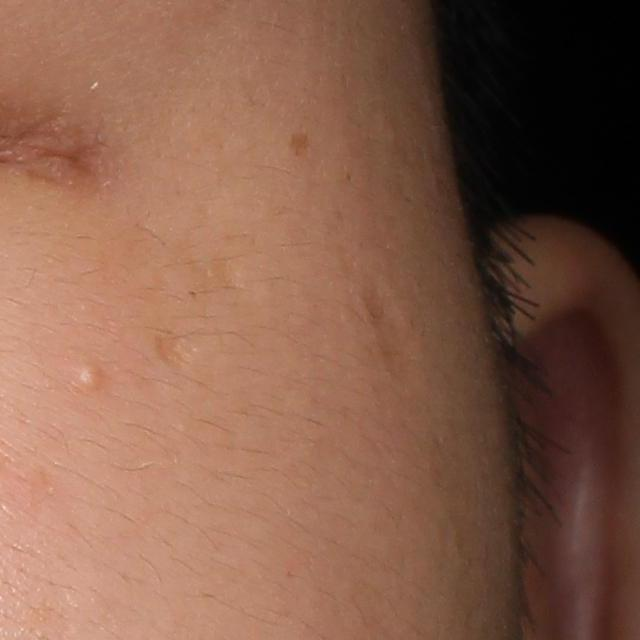atrophic_scar: (360, 276, 419, 392), (152, 330, 199, 372)
comedo: (75, 359, 106, 393)
